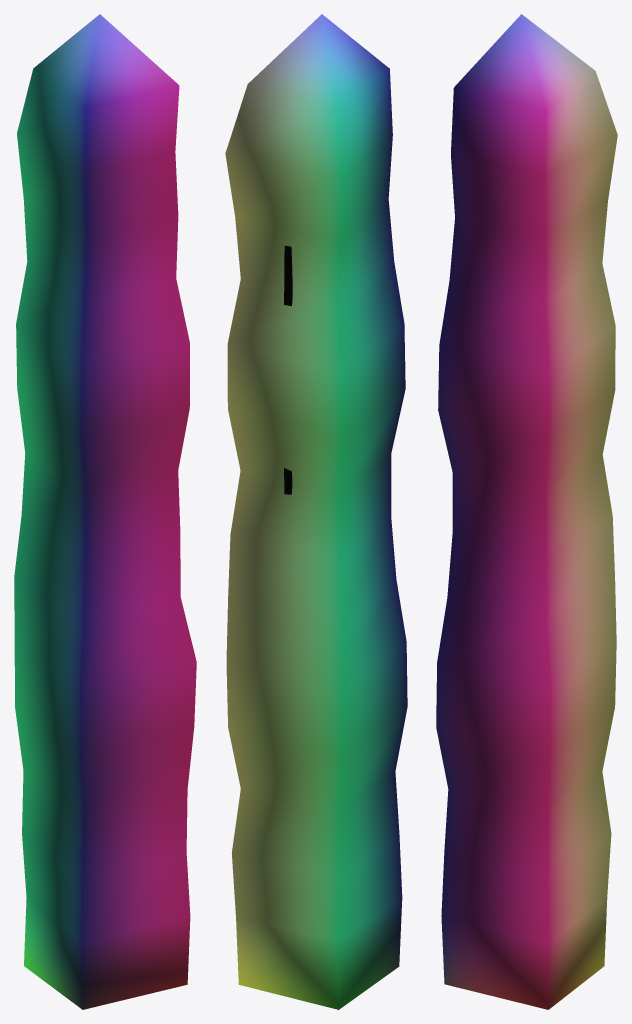
Rendered from SM_Palisade_Plains_Stake_A.fbx.
The picture shows the model from 3 angles, left to right: view 1: azimuth 30°, elevation 25°; view 2: azimuth 150°, elevation 25°; view 3: azimuth 330°, elevation 25°; orthographic projection.
Visible parts, largest first — view 1: SM_Palisade_Plains_Stake_A; view 2: SM_Palisade_Plains_Stake_A; view 3: SM_Palisade_Plains_Stake_A.
Part boxes in pixels (x1,y1,x2,y2): SM_Palisade_Plains_Stake_A: (14, 14, 196, 1009); SM_Palisade_Plains_Stake_A: (225, 14, 407, 1009); SM_Palisade_Plains_Stake_A: (436, 14, 617, 1009).
Bounding box in the file's own units: 0.1738 × 1.38 × 0.1744.
